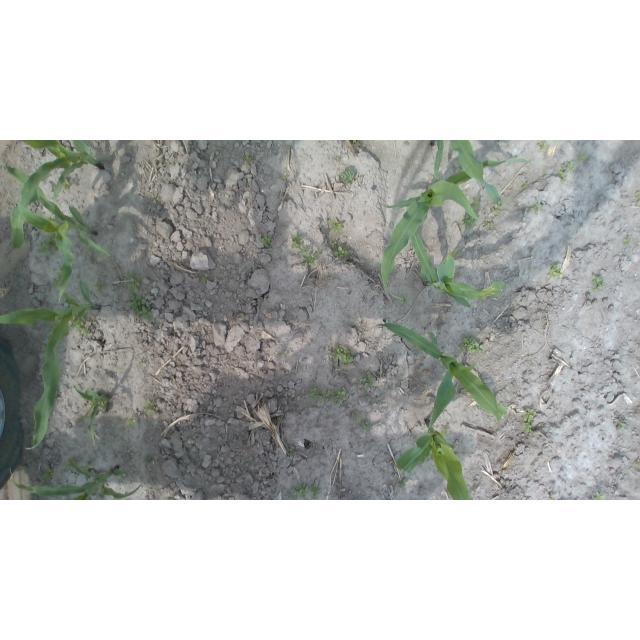Maize: (379, 160, 530, 304), (0, 278, 102, 450), (4, 165, 112, 306), (376, 321, 509, 431), (11, 140, 105, 248), (405, 223, 507, 308), (395, 418, 474, 500), (428, 141, 504, 210), (9, 461, 143, 500), (74, 385, 110, 447)
Weeds: (292, 235, 347, 264), (127, 276, 154, 323), (311, 385, 345, 403), (68, 315, 94, 338), (294, 483, 321, 498), (333, 346, 354, 365), (561, 162, 575, 183), (464, 337, 482, 353), (37, 240, 57, 253), (525, 411, 536, 434), (340, 169, 354, 183), (360, 374, 373, 389), (550, 266, 563, 279), (333, 219, 344, 233), (594, 276, 603, 291), (42, 470, 52, 483), (532, 205, 545, 214), (262, 236, 271, 247), (593, 492, 605, 500), (353, 412, 363, 421), (463, 216, 474, 224), (495, 199, 507, 206), (576, 154, 585, 163), (145, 403, 153, 413), (146, 455, 154, 464), (619, 422, 628, 430), (127, 419, 137, 426), (288, 448, 295, 457), (279, 350, 289, 356), (636, 459, 640, 472), (636, 191, 640, 203), (244, 156, 252, 162), (625, 239, 632, 245), (540, 142, 546, 148), (365, 426, 371, 431), (487, 222, 493, 226), (204, 276, 207, 283), (336, 156, 340, 160)
